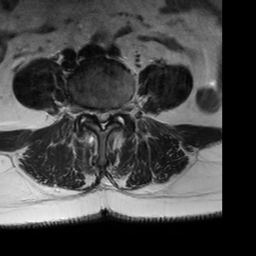CCS_normal: (99, 103, 105, 133)
LFS_stenosis: (112, 103, 121, 123)
LLS_stenosis: (106, 103, 112, 127)
RFS_stenosis: (85, 103, 93, 123)
RLS_stenosis: (93, 102, 99, 127)
